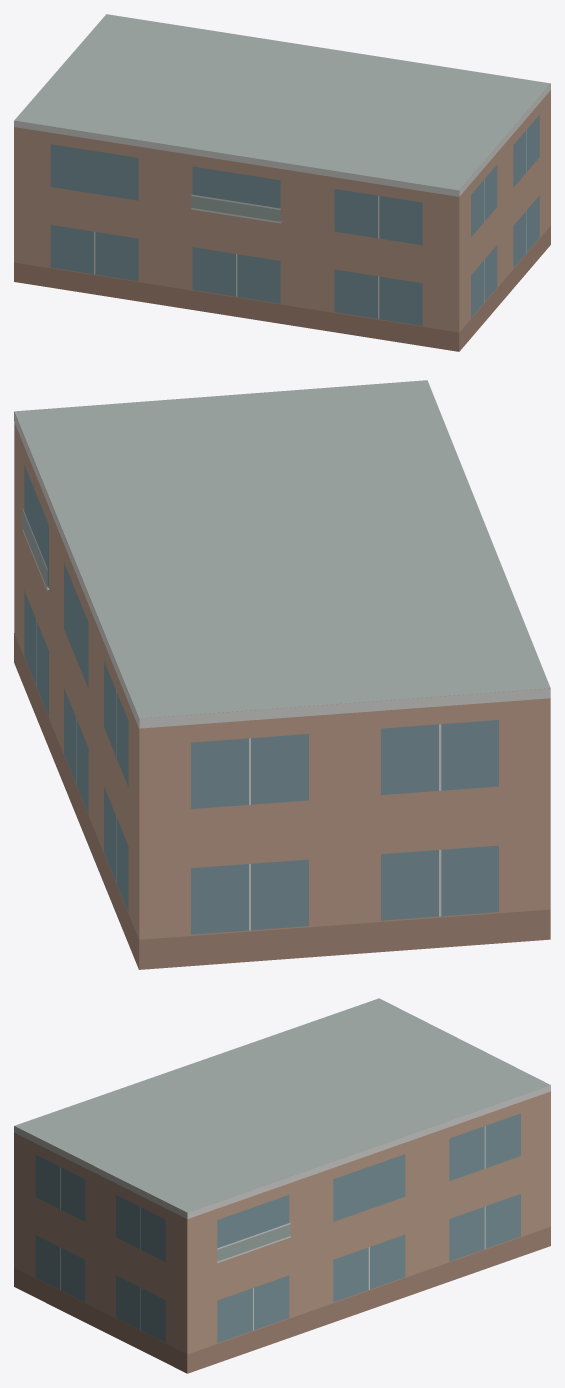
File: survey-upis-32832950.glb
3 views of the same model, one above another, from view 1: azimuth 30°, elevation 25°; view 2: azimuth 150°, elevation 25°; view 3: azimuth 270°, elevation 25° (orthographic). The views are drawn at different scales.
Visible parts, largest first — view 1: survey-upis-32832950.tmp; view 2: survey-upis-32832950.tmp; view 3: survey-upis-32832950.tmp.
Boxes of the visible parts, x1=… form: survey-upis-32832950.tmp: x1=14, y1=14, x2=550, y2=351; survey-upis-32832950.tmp: x1=14, y1=380, x2=550, y2=969; survey-upis-32832950.tmp: x1=14, y1=998, x2=550, y2=1373.
Size of the model in its own units: 17.44 by 6.1 by 18.45.
